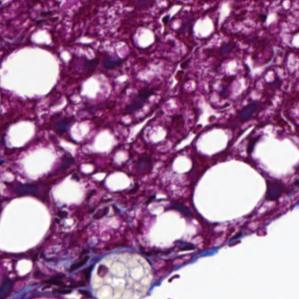inflammation: (106, 83, 169, 126), (66, 48, 133, 84), (218, 96, 266, 129)
